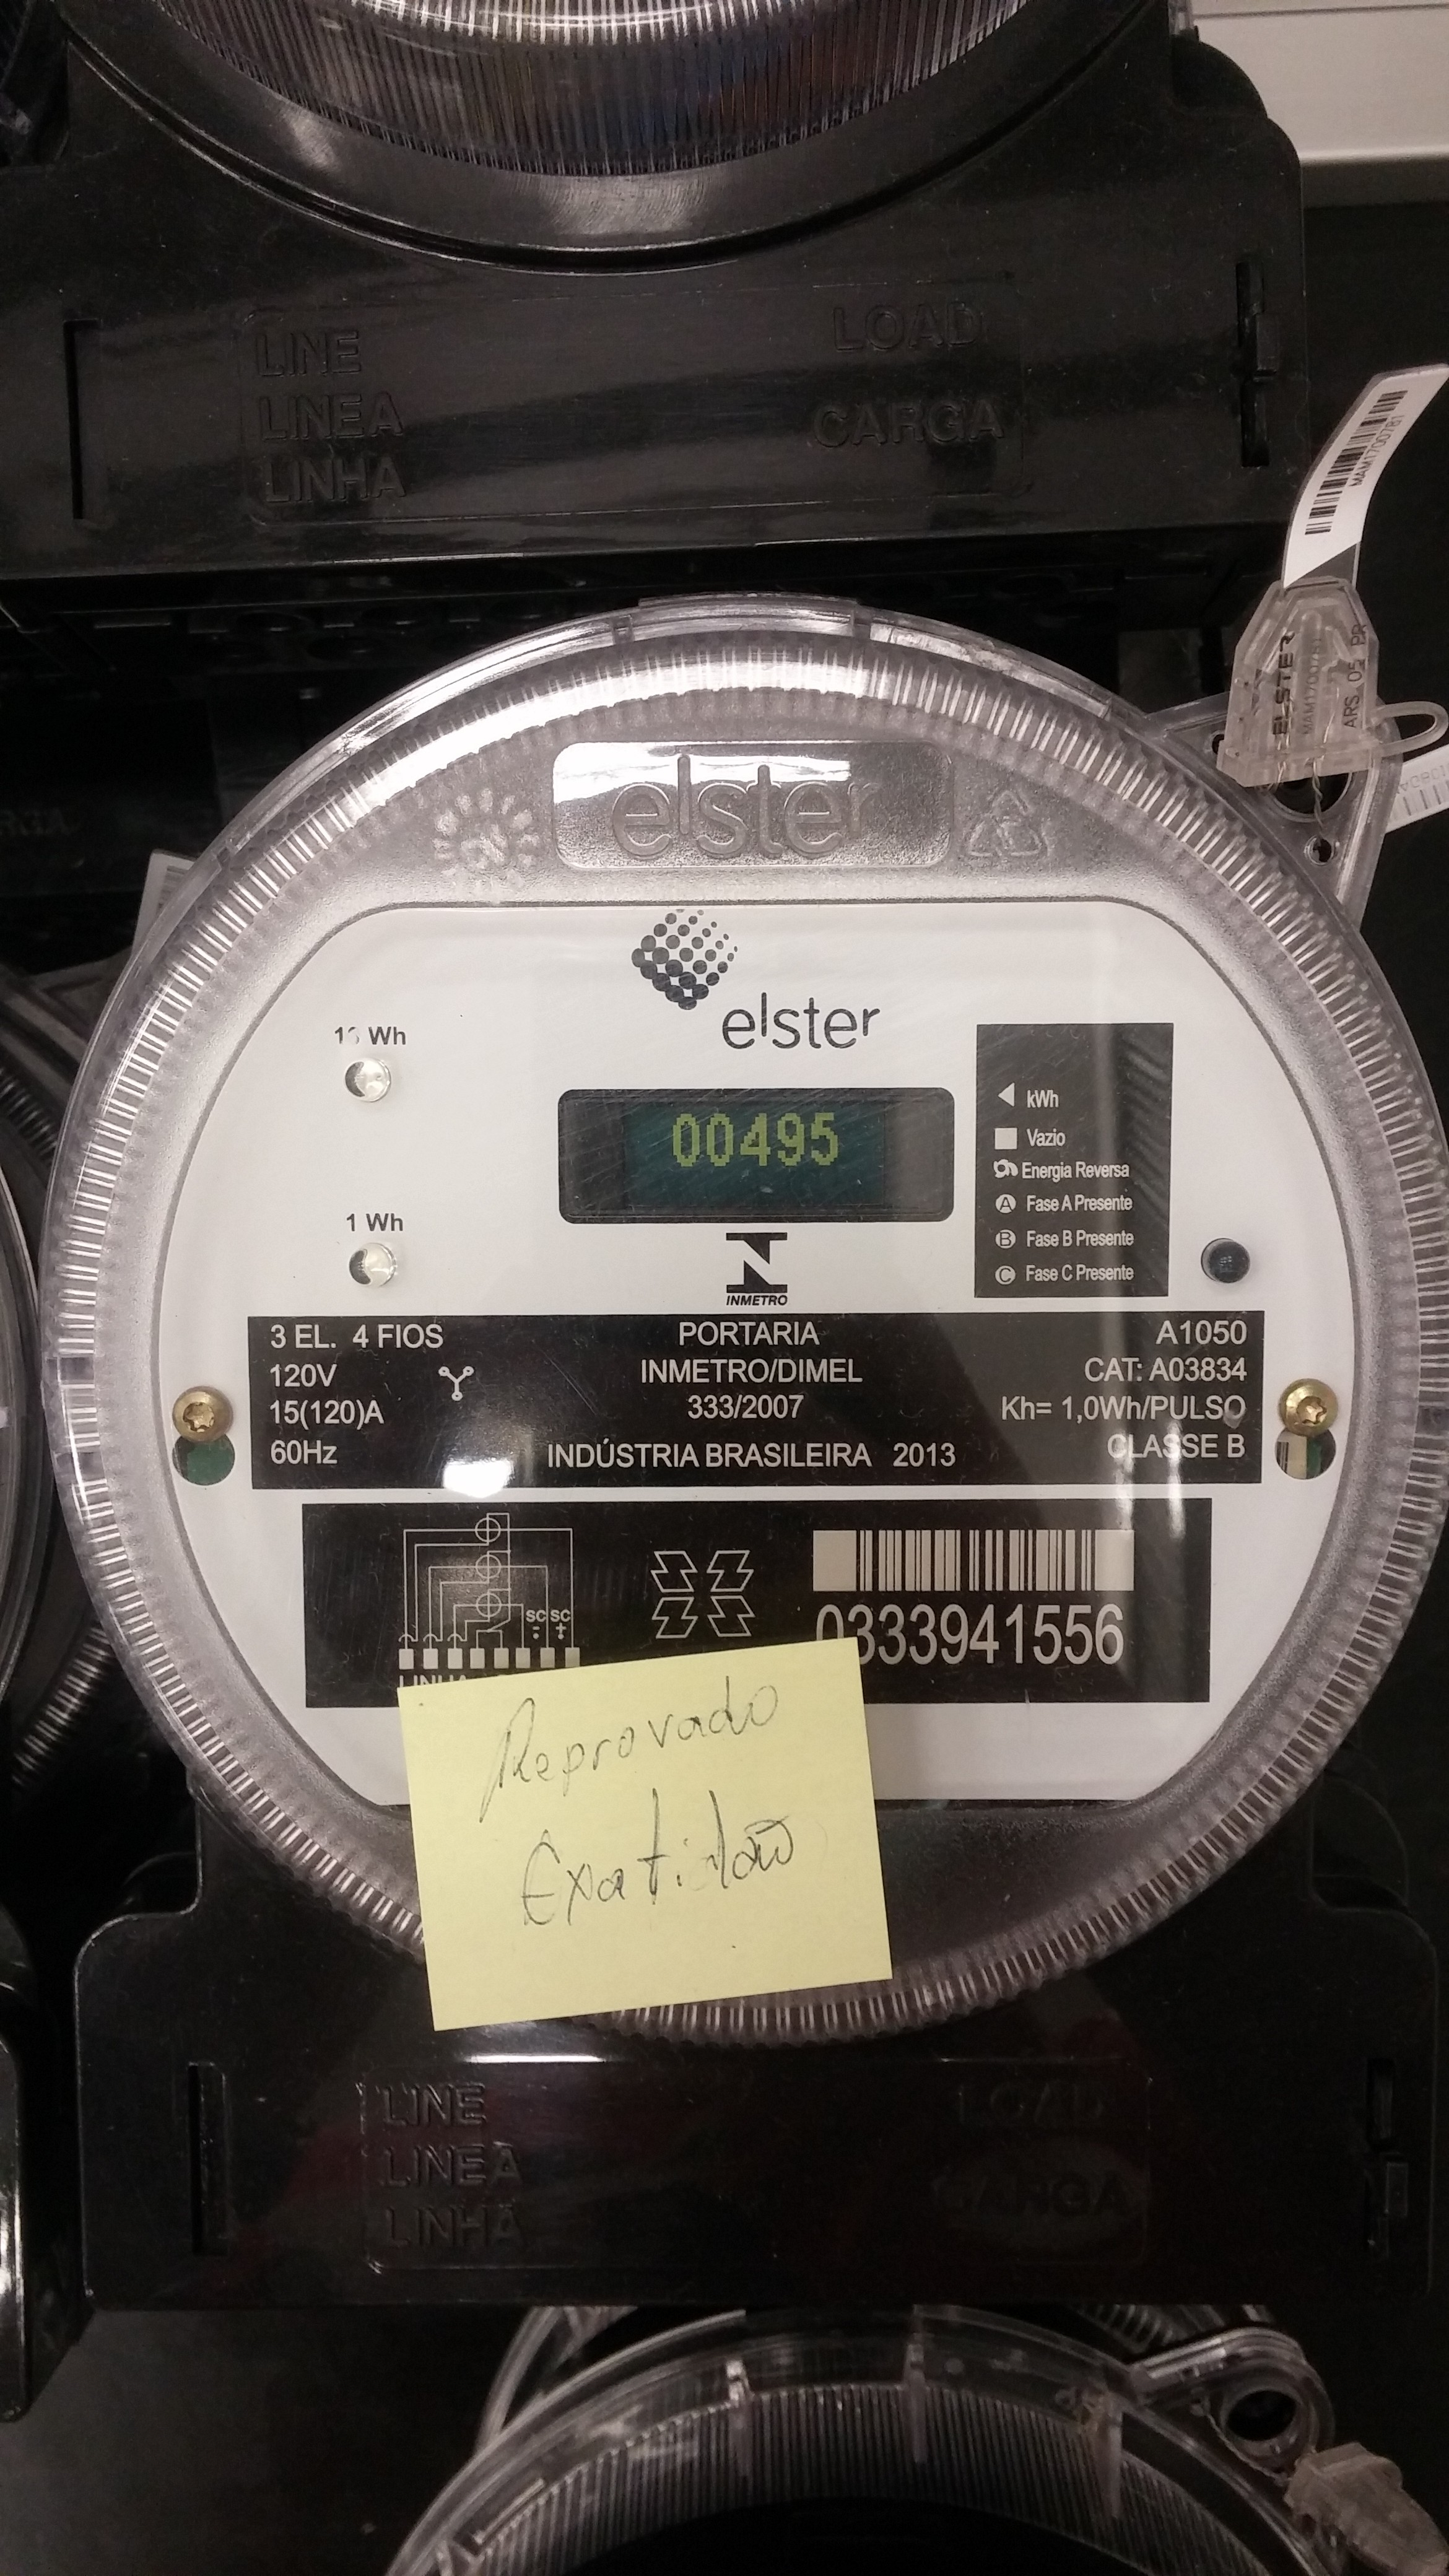counter: (548, 1067, 968, 1237)
